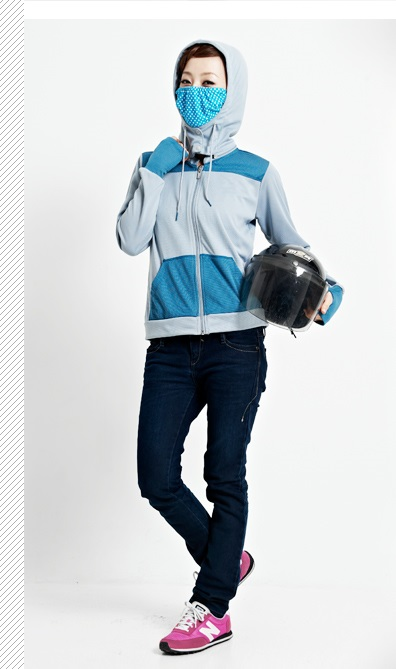face_mask: (176, 51, 224, 126)
